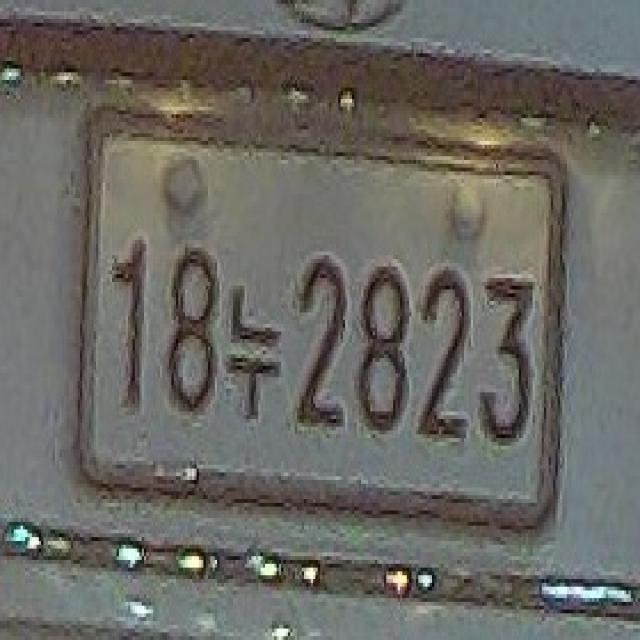1: (103, 225, 158, 430)
2: (293, 244, 352, 442), (416, 259, 473, 450)
3: (475, 256, 544, 454)
8: (162, 225, 224, 423), (354, 251, 414, 442)
license_plate: (59, 99, 576, 537)
nu: (224, 282, 283, 423)
